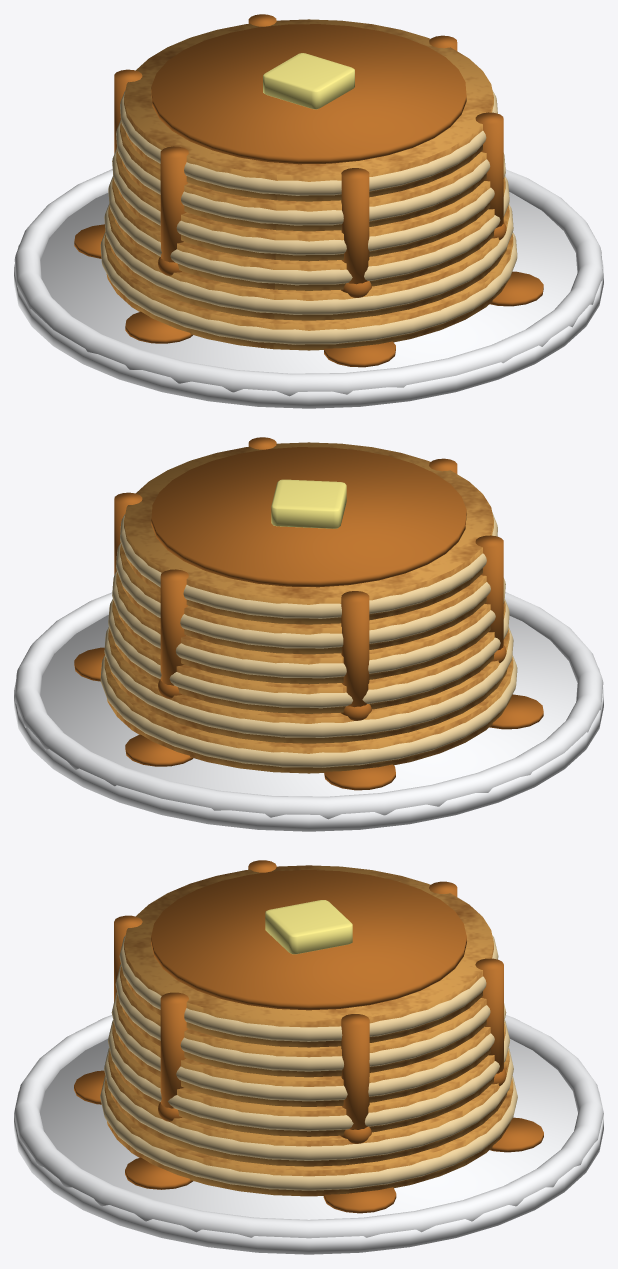
Rendered from pancake_stack.glb.
3 views of the same model, one above another, from view 1: azimuth 30°, elevation 25°; view 2: azimuth 150°, elevation 25°; view 3: azimuth 270°, elevation 25° (orthographic).
Parts seen in each view (by area): view 1: Cylinder.007, Cylinder, Torus, Cylinder.006, Cylinder.001, Cylinder.002, Torus.001, Torus.002, Cylinder.003, Torus.003, Cylinder.004, Cylinder.005 (+12 smaller); view 2: Cylinder.007, Cylinder, Torus, Cylinder.006, Cylinder.001, Cylinder.002, Torus.001, Torus.002, Cylinder.003, Torus.003, Cylinder.004, Cylinder.005 (+12 smaller); view 3: Cylinder.007, Cylinder, Torus, Cylinder.006, Cylinder.001, Cylinder.002, Torus.001, Torus.002, Cylinder.003, Torus.003, Cylinder.004, Cylinder.005 (+12 smaller).
Part boxes in pixels (x1,y1,x2,y2): Cylinder.007: (151,24,466,164); Cylinder: (14,192,603,408); Torus: (14,169,603,396); Cylinder.006: (124,19,493,201); Cylinder.001: (104,234,513,350); Cylinder.002: (108,205,509,320); Torus.001: (100,232,517,344); Torus.002: (104,204,513,314); Cylinder.003: (112,177,505,290); Torus.003: (108,175,509,285); Cylinder.004: (116,149,490,261); Cylinder.005: (120,121,486,231); Cylinder.007: (151,447,466,587); Cylinder: (14,615,603,831); Torus: (14,592,603,819); Cylinder.006: (124,442,493,624); Cylinder.001: (104,657,513,773); Cylinder.002: (108,628,509,743); Torus.001: (100,655,517,767); Torus.002: (104,627,513,737); Cylinder.003: (112,600,505,713); Torus.003: (108,598,509,708); Cylinder.004: (116,572,490,684); Cylinder.005: (120,544,486,654); Cylinder.007: (151,870,466,1010); Cylinder: (14,1039,603,1254); Torus: (14,1015,603,1238); Cylinder.006: (124,865,493,1047); Cylinder.001: (104,1078,513,1196); Cylinder.002: (108,1050,509,1166); Torus.001: (100,1076,517,1190); Torus.002: (104,1048,513,1160); Cylinder.003: (112,1022,505,1136); Torus.003: (108,1020,509,1131); Cylinder.004: (116,994,490,1106); Cylinder.005: (120,965,486,1077).
Size of the model in its own units: 4.56 by 1.82 by 4.56.
Materials: 5 (1 with a texture image).
